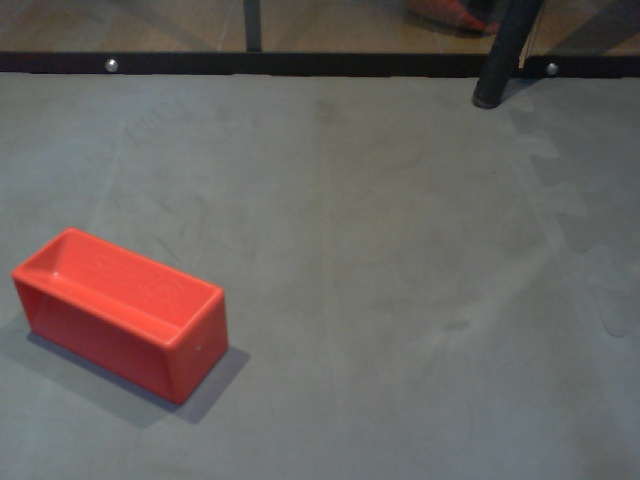RedSample: (8, 224, 230, 407)
